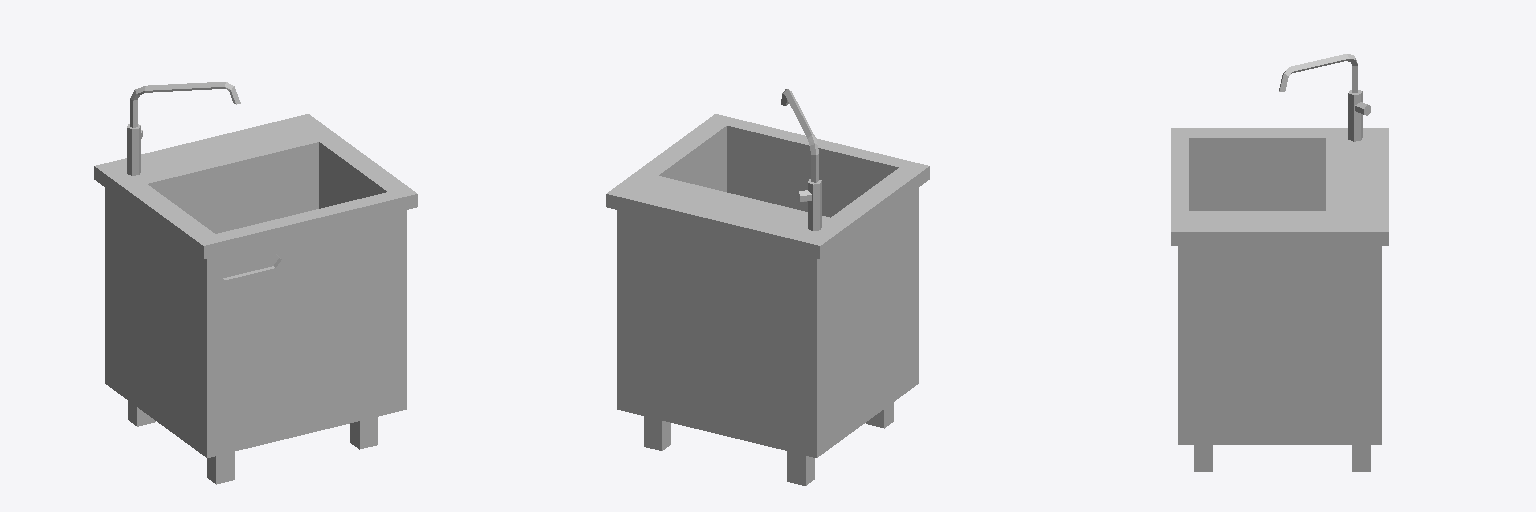
Rendered from LAVABO.obj.
The picture shows the model from 3 angles: view 1: azimuth 30°, elevation 25°; view 2: azimuth 150°, elevation 25°; view 3: azimuth 270°, elevation 25°; orthographic projection.
Parts seen in each view (by area): view 1: kitchen_sink_001; view 2: kitchen_sink_001; view 3: kitchen_sink_001.
Boxes of the visible parts, x1=… form: kitchen_sink_001: x1=94, y1=82, x2=417, y2=484; kitchen_sink_001: x1=606, y1=89, x2=929, y2=485; kitchen_sink_001: x1=1171, y1=54, x2=1388, y2=471.
Bounding box in the file's own units: 1.08 × 1.71 × 0.9566.